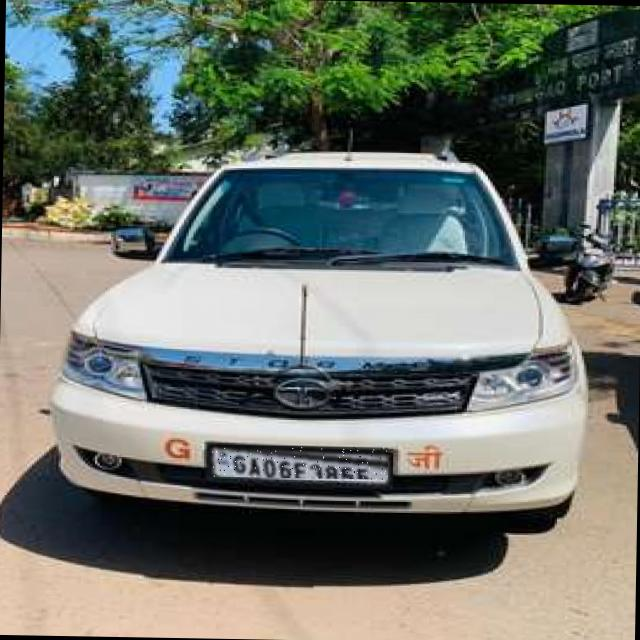Plate: (209, 445, 389, 480)
